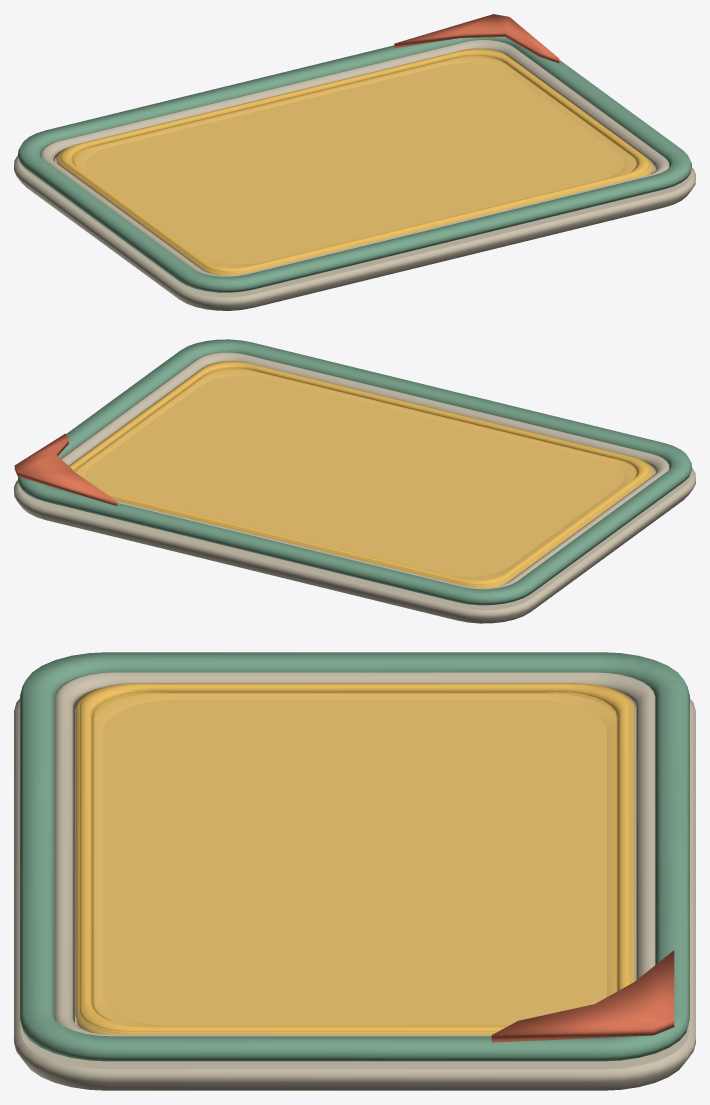
3 renders of one model, top to bottom at view 1: azimuth 30°, elevation 25°; view 2: azimuth 150°, elevation 25°; view 3: azimuth 270°, elevation 25°, orthographic. The views are drawn at different scales.
Visible parts, largest first — view 1: asset_root_geometry, coral_peel_tab; view 2: asset_root_geometry, coral_peel_tab; view 3: asset_root_geometry, coral_peel_tab.
Part boxes in pixels (x1,y1,x2,y2): asset_root_geometry: [14, 37, 695, 310]; coral_peel_tab: [394, 14, 559, 62]; asset_root_geometry: [14, 339, 695, 623]; coral_peel_tab: [14, 433, 117, 505]; asset_root_geometry: [14, 652, 695, 1090]; coral_peel_tab: [491, 950, 674, 1042].
Bounding box in the file's own units: 0.16 × 0.0121 × 0.1144.
